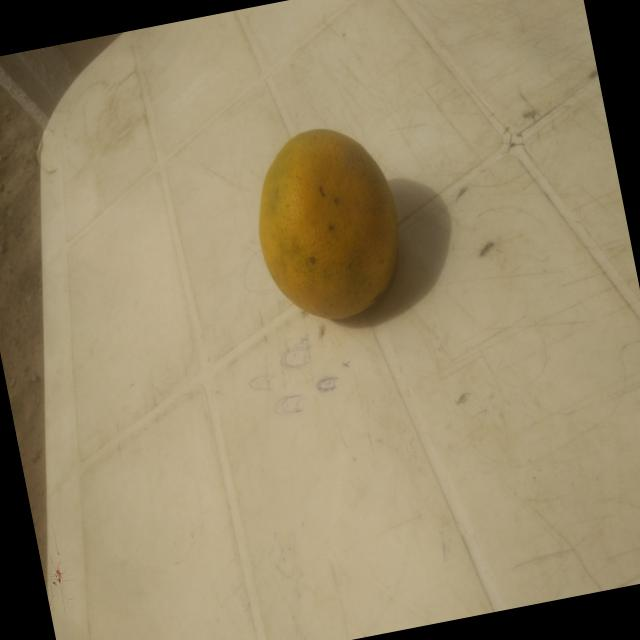Ripe orange: (233, 117, 420, 336)
